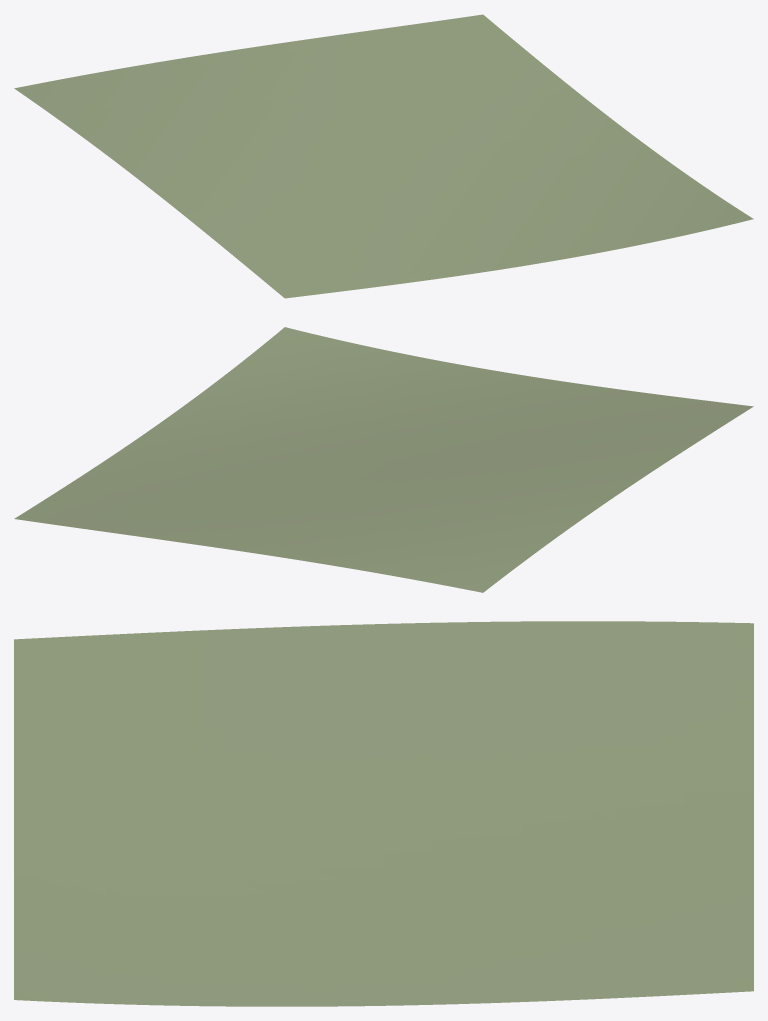
The model's file is alpine-4-0.glb.
3 renders of one model, top to bottom at view 1: azimuth 30°, elevation 25°; view 2: azimuth 150°, elevation 25°; view 3: azimuth 270°, elevation 25°, orthographic. The views are drawn at different scales.
Parts seen in each view (by area): view 1: alpine-4-0; view 2: alpine-4-0; view 3: alpine-4-0.
Boxes of the visible parts, <box> form: alpine-4-0: <box>14,14,753,298</box>; alpine-4-0: <box>14,327,753,592</box>; alpine-4-0: <box>14,621,753,1006</box>.
Bounding box in the file's own units: 256 × 27.79 × 256.
